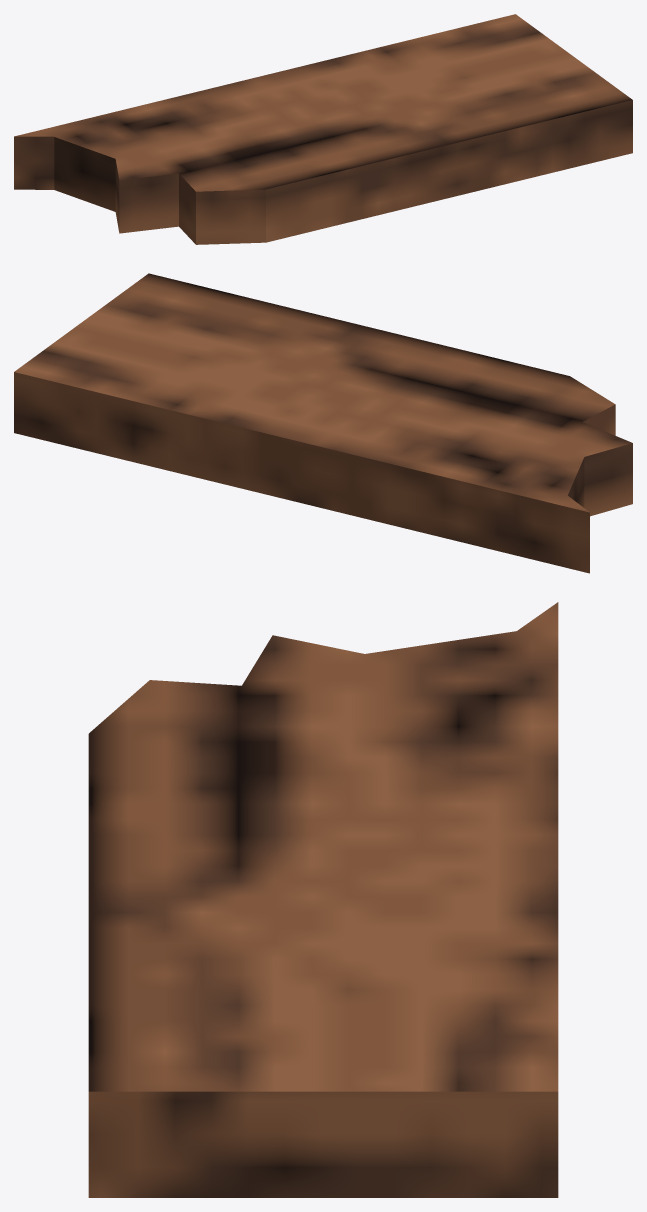
Rendered from MESH_DEBRI_Wood2.fbx.
3 renders of one model, top to bottom at view 1: azimuth 30°, elevation 25°; view 2: azimuth 150°, elevation 25°; view 3: azimuth 270°, elevation 25°, orthographic. The views are drawn at different scales.
Parts seen in each view (by area): view 1: MESH_DEBRI_Wood2; view 2: MESH_DEBRI_Wood2; view 3: MESH_DEBRI_Wood2.
Boxes of the visible parts, x1,y1,x2,y2 form: MESH_DEBRI_Wood2: (14, 14, 632, 244); MESH_DEBRI_Wood2: (14, 273, 632, 573); MESH_DEBRI_Wood2: (88, 602, 558, 1197).
Size of the model in its own units: 0.9874 by 0.1 by 0.4.
